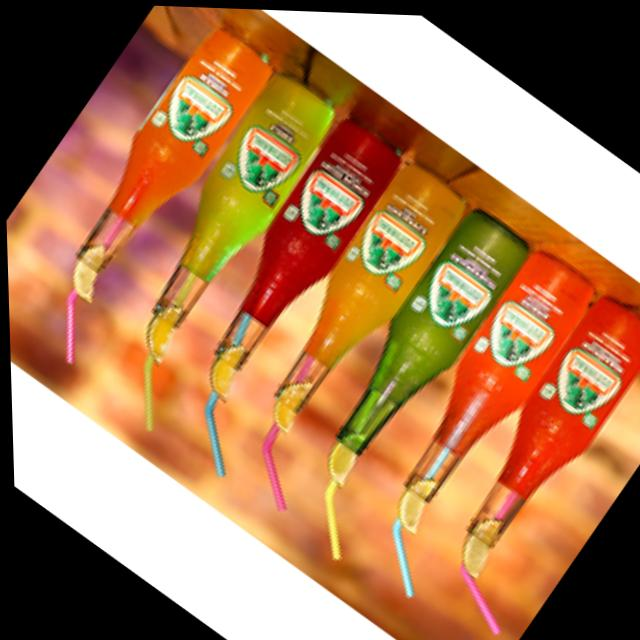glass_beverage_bottles: (245, 149, 478, 433), (181, 106, 411, 386), (51, 13, 280, 293), (310, 194, 539, 474), (374, 241, 604, 518), (124, 62, 348, 339), (437, 285, 640, 570)
